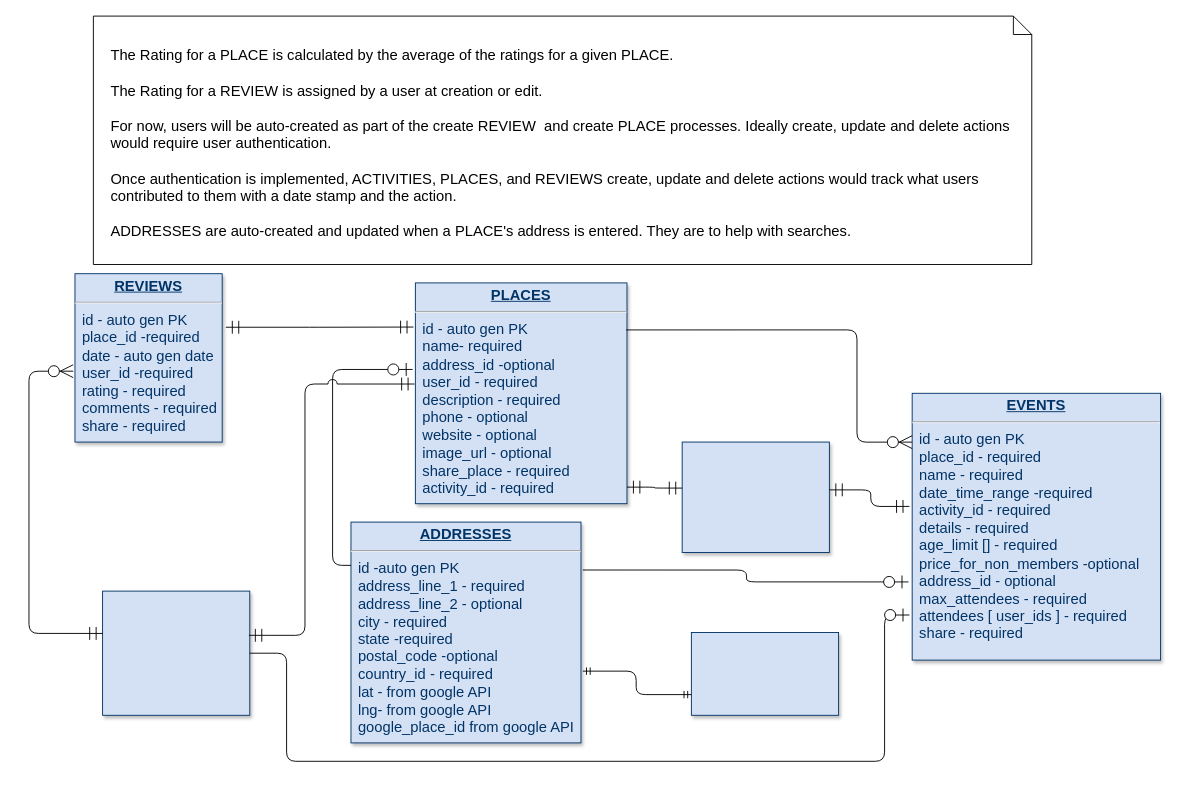
Some shapes in this 1182 by 790 pixel diagram are drawn without their labels. The centre of each missing label's shape, as x and y in pixels:
ACTIVITIES id icon name: (x=756, y=498)
COUNTRIES id - auto gen PK country - required: (x=765, y=675)
USERS id - auto gen PK email - required: (x=176, y=654)
